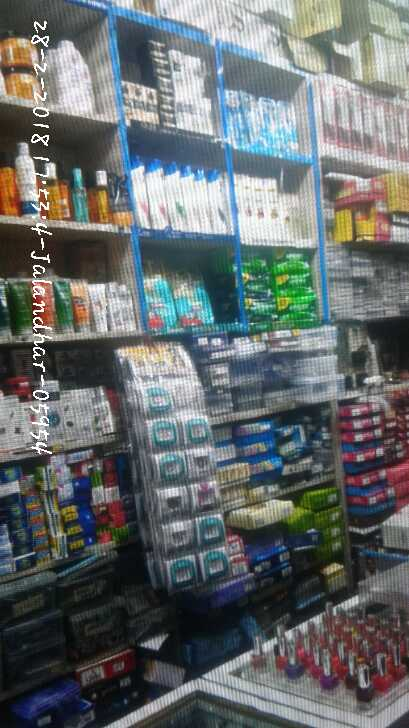venus: (277, 101, 297, 146), (259, 97, 276, 148), (244, 91, 259, 146), (226, 91, 242, 140)
